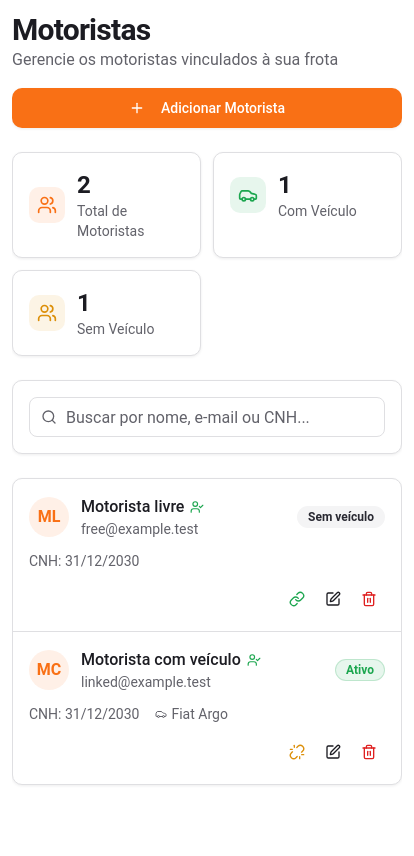
it: Driver links use contracts, never direct mutations › navigates to contracts without writing when choosing Para desvincular, encerre o contrato
Click the button named "Para desvincular, encerre o contrato" at (297, 752), box [281, 736, 313, 768]
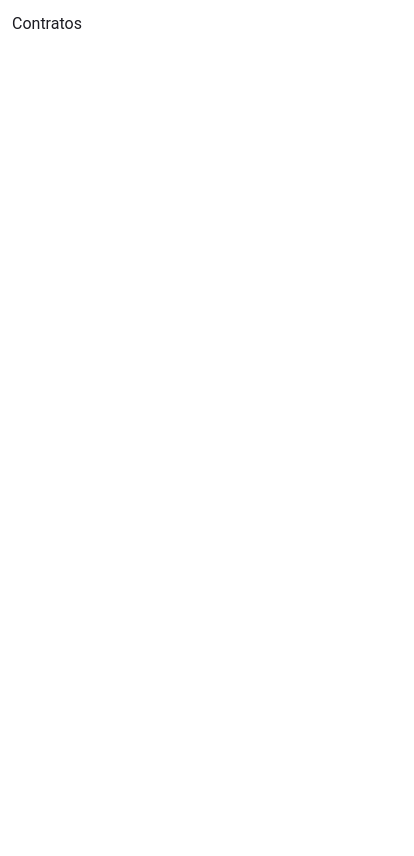
Expected: the heading "Contratos" is shown, [12, 14, 82, 33]
